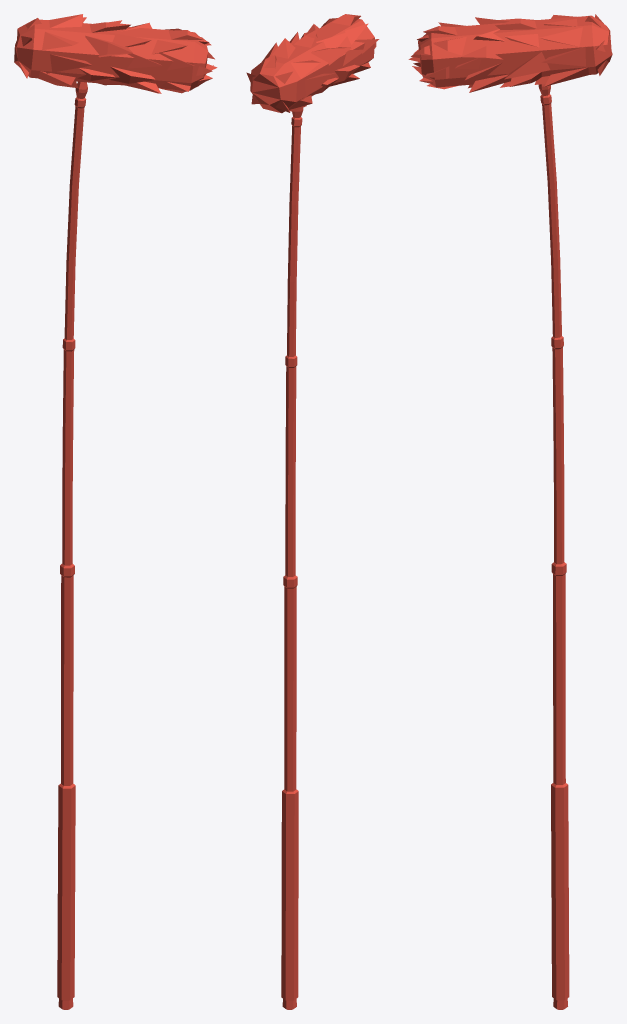
The model's file is SM_Boom_Pole.fbx.
3 renders of one model, left to right at view 1: azimuth 90°, elevation 25°; view 2: azimuth 150°, elevation 25°; view 3: azimuth 270°, elevation 25°, orthographic. The views are drawn at different scales.
Parts seen in each view (by area): view 1: SM_Boom_Pole; view 2: SM_Boom_Pole; view 3: SM_Boom_Pole.
Part boxes in pixels (bbox=[...]): SM_Boom_Pole: bbox=[14, 14, 217, 1009]; SM_Boom_Pole: bbox=[246, 14, 379, 1009]; SM_Boom_Pole: bbox=[408, 14, 612, 1009].
Bounding box in the file's own units: 56.97 × 22.01 × 306.
